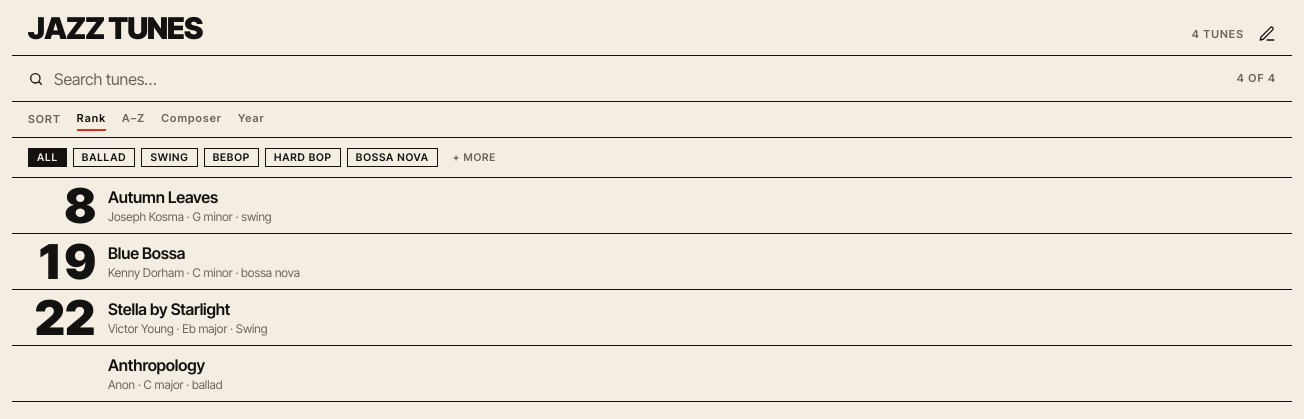
TuneList › filters live as you type in search
Type "autumn" into the search field with placeholder "Search tunes…". click: (640, 78)
box: x1=54 y1=66 x2=1227 y2=90
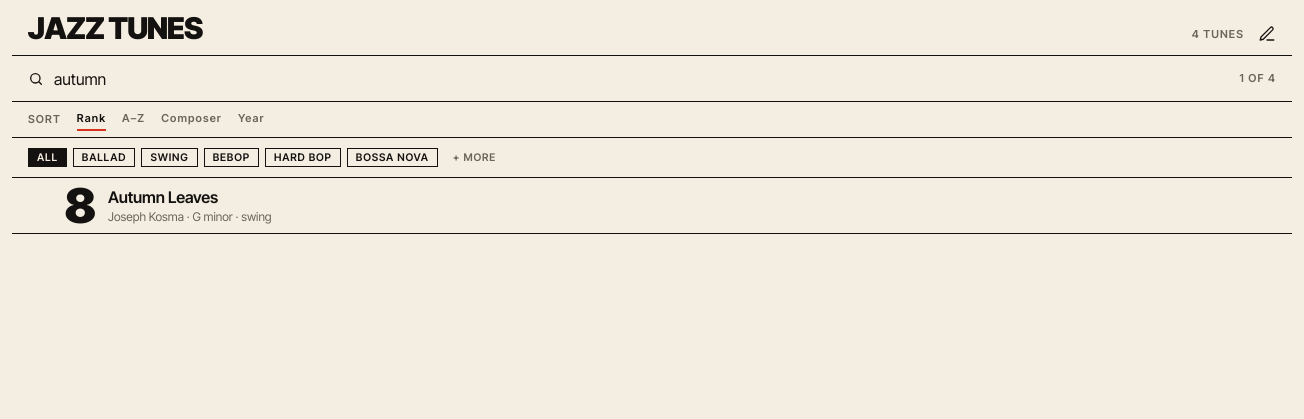
Expected: the text "Autumn Leaves" is shown, x1=108 y1=187 x2=218 y2=207
Result: the button "Stella by Starlight" is gone
